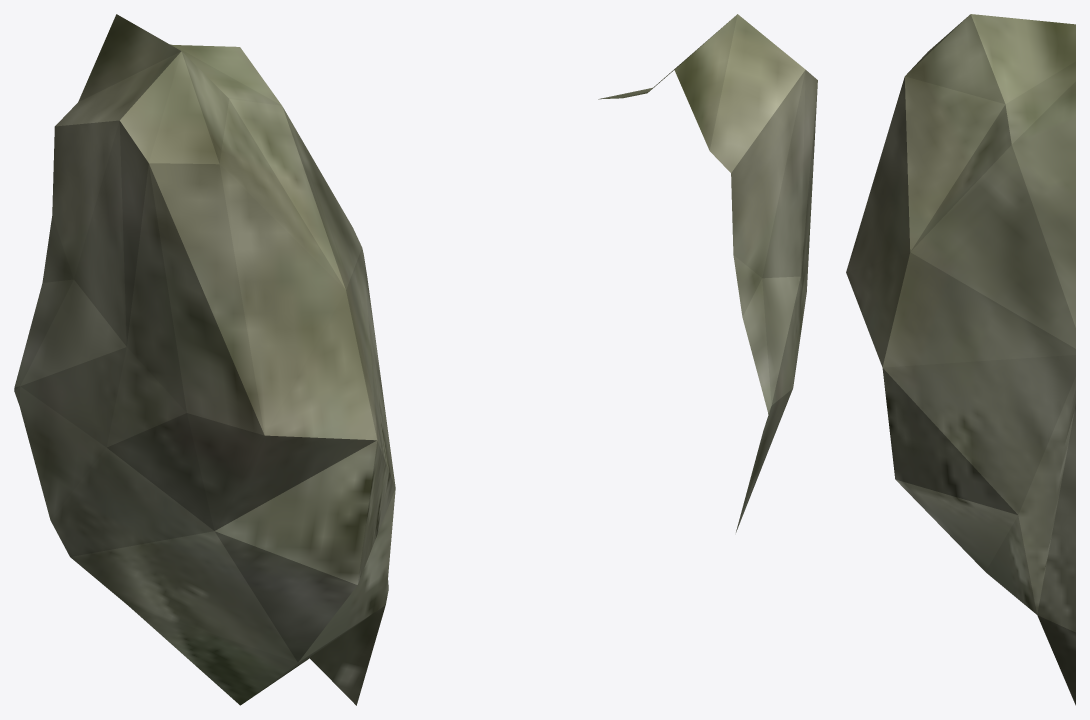
3 views of the same model, side by side, from view 1: azimuth 30°, elevation 25°; view 2: azimuth 150°, elevation 25°; view 3: azimuth 270°, elevation 25° (orthographic). The views are drawn at different scales.
Bounding box in the file's own units: 0.4651 × 0.9052 × 0.3148.
Materials: 1 (1 with a texture image).
